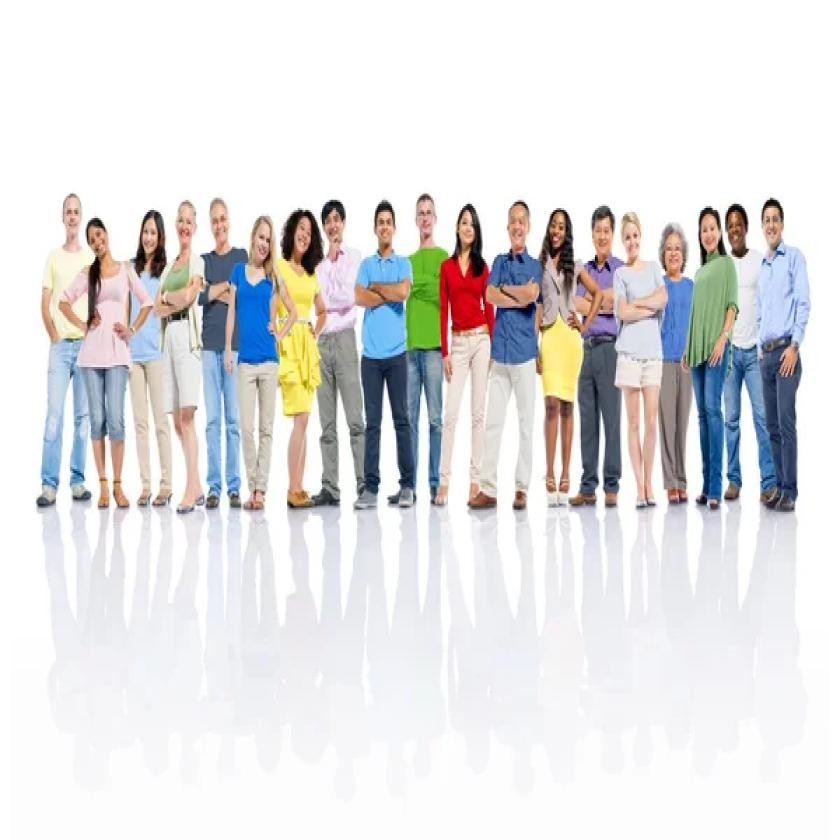Sin_casco: (655, 218, 695, 284), (247, 207, 280, 272), (288, 204, 318, 271), (693, 205, 729, 258), (590, 200, 620, 263), (319, 196, 351, 254), (139, 204, 166, 272), (505, 194, 535, 255), (759, 193, 789, 254), (724, 197, 751, 260), (59, 191, 88, 248), (174, 195, 201, 256), (372, 196, 399, 253), (455, 202, 482, 259), (547, 203, 574, 259), (207, 196, 234, 250), (621, 208, 645, 268), (86, 214, 114, 262), (414, 192, 438, 247)
